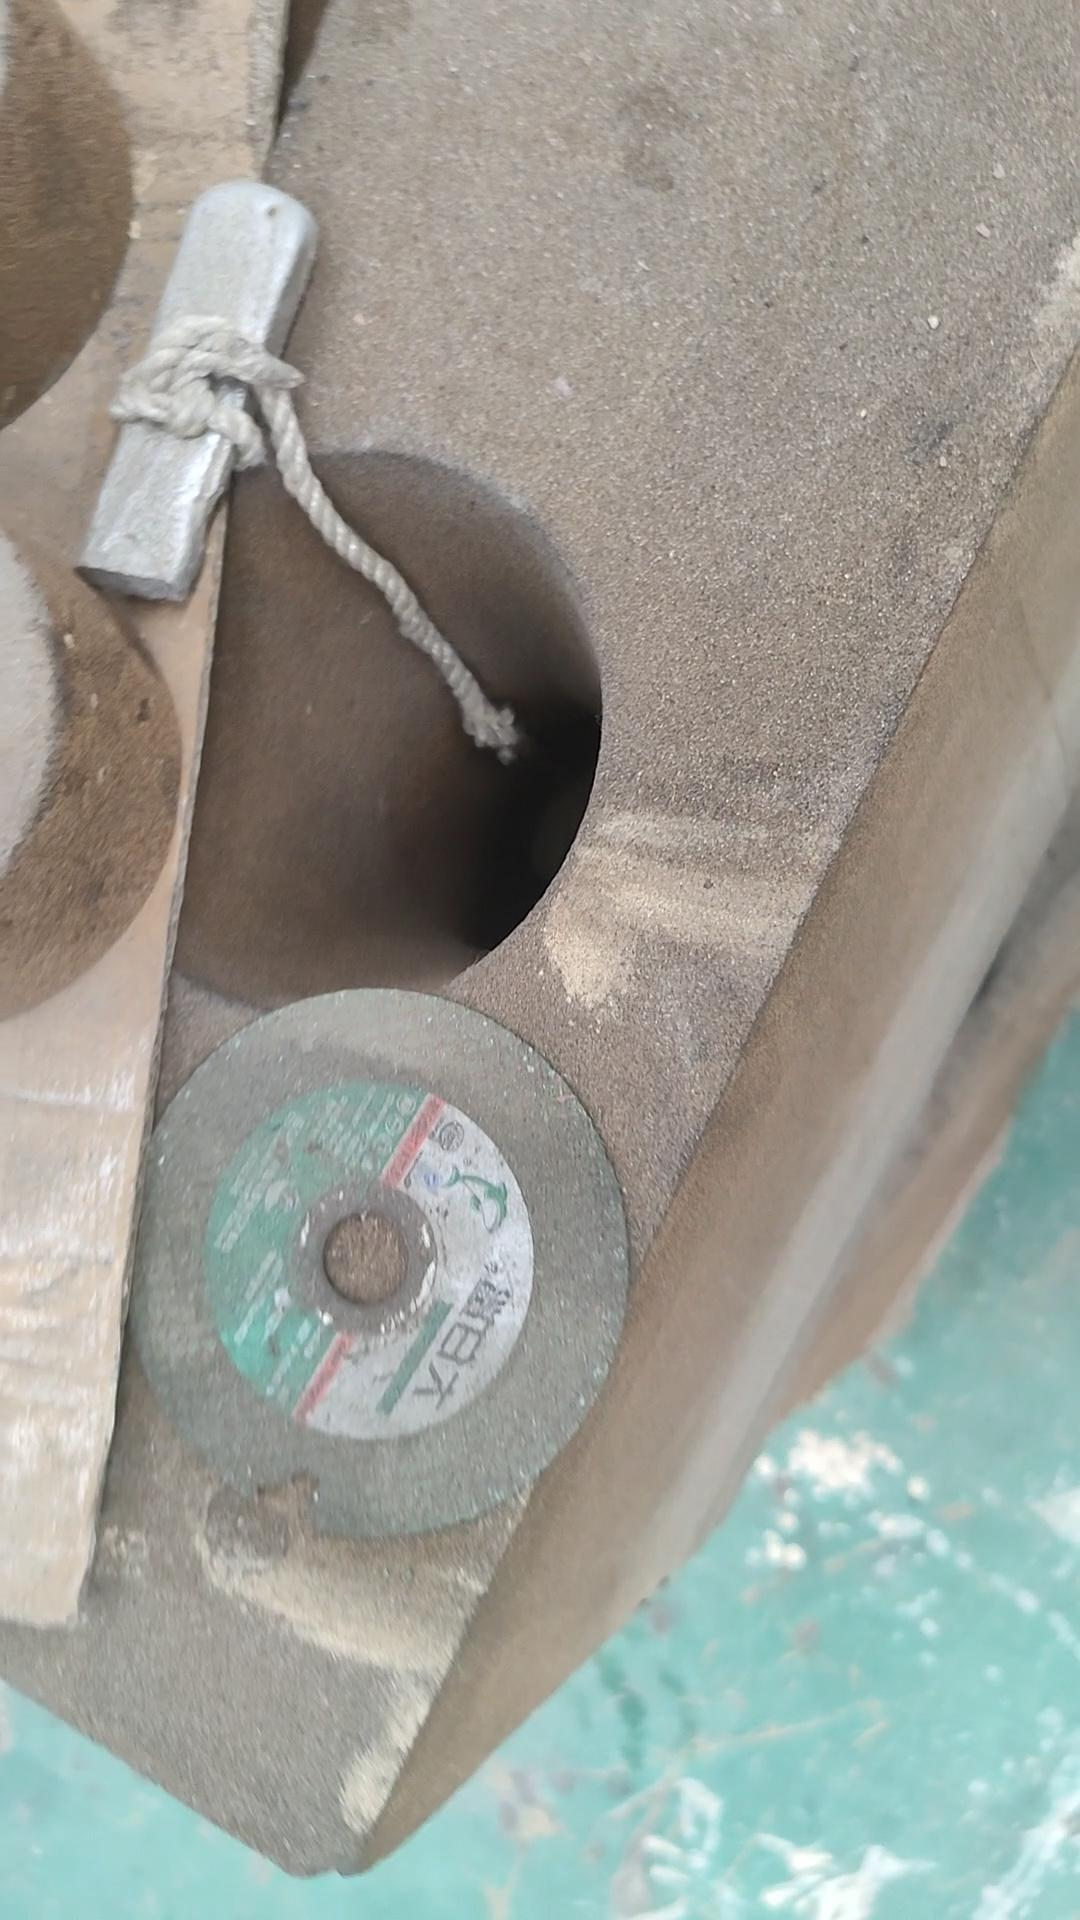pouring hole: (117, 452, 603, 1015)
